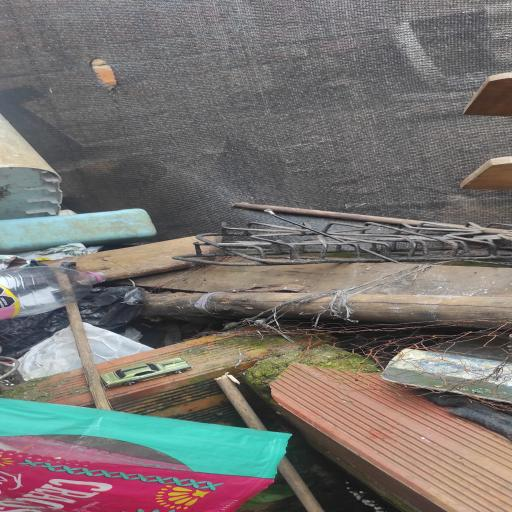Carrito: (101, 358, 192, 388)
